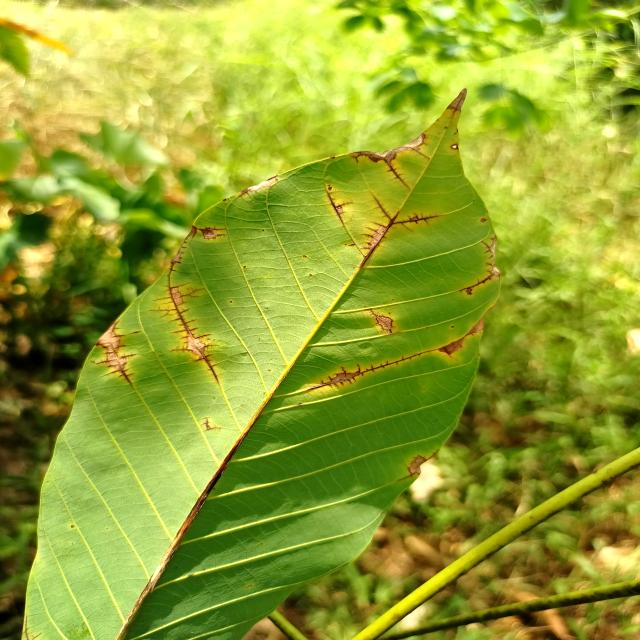Colletotrichum: (450, 144, 458, 149), (481, 218, 486, 223), (268, 369, 271, 372), (71, 525, 74, 528), (309, 274, 312, 276), (230, 301, 232, 303), (392, 299, 394, 301), (302, 361, 304, 363)
Corynespora: (154, 282, 222, 383), (309, 348, 438, 390), (95, 321, 137, 386), (360, 212, 399, 268), (168, 225, 198, 282), (392, 211, 441, 232), (326, 190, 352, 226), (458, 276, 492, 295), (386, 164, 409, 189), (371, 193, 391, 221), (198, 227, 228, 240), (412, 148, 431, 161), (202, 417, 217, 431), (482, 240, 493, 258), (367, 308, 378, 318)
Leaf-Blight: (350, 132, 425, 164), (245, 175, 276, 191), (438, 337, 464, 354), (490, 236, 500, 276), (465, 317, 483, 337), (407, 456, 426, 474), (378, 316, 392, 329)
